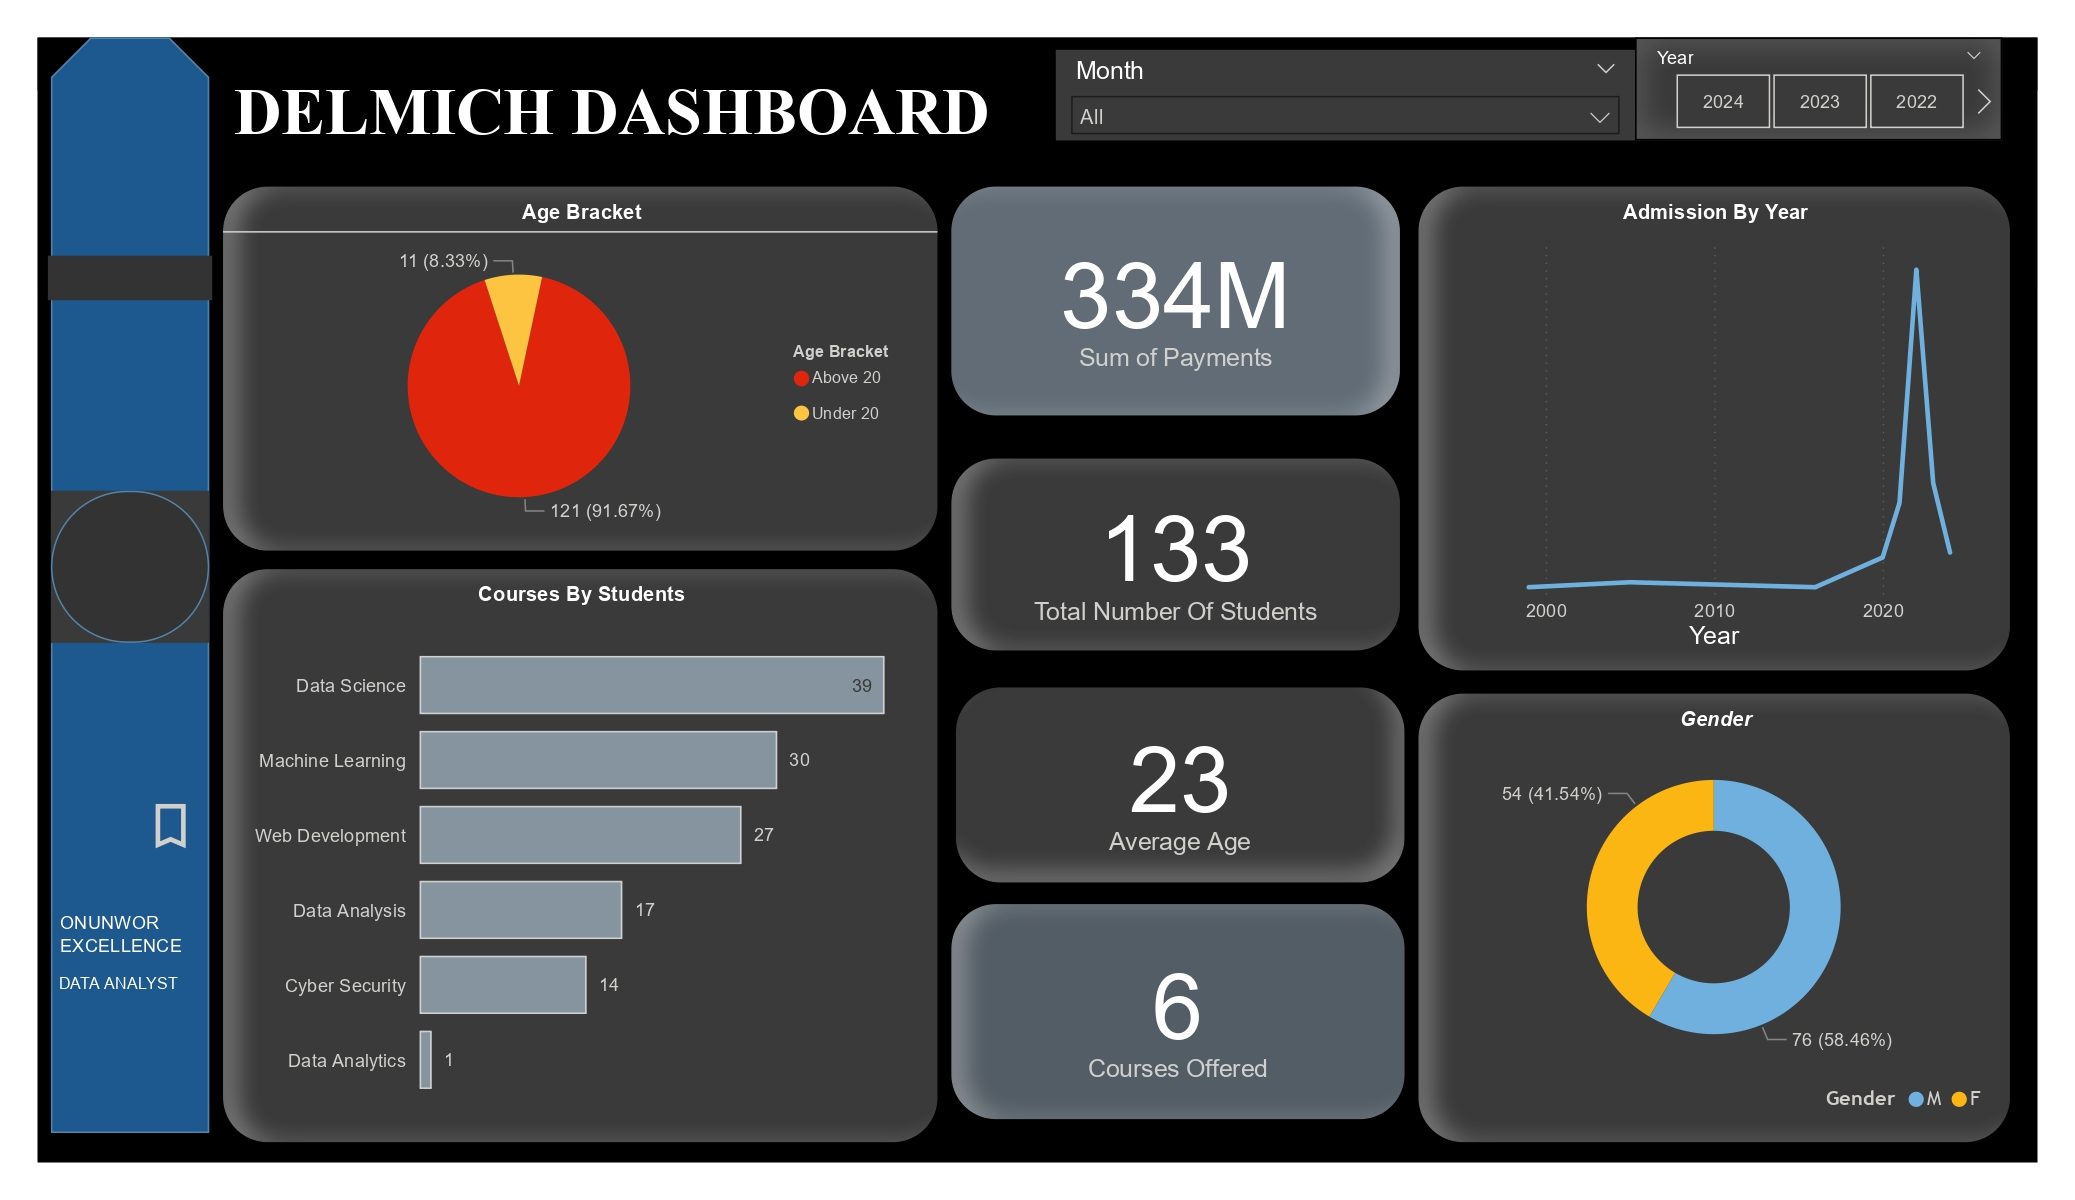

What the dashboard file says about the page in this screenshot:
{"tool":"powerbi","page":{"name":"💵Page 1","canvas":[1280,720],"ordinal":0},"visuals":[{"type":"card","fields":{"Values":["Delmich dataset.Payments"]},"box":[589.2,95.5,293.9,151.3],"z":0},{"type":"clusteredBarChart","title":"Courses By Students","fields":{"Category":["Delmich dataset.Course"],"Y":["Delmich dataset.Payments"]},"box":[114.6,345.3,467.3,374.7],"z":1000},{"type":"donutChart","title":"Gender","fields":{"Category":["Delmich dataset.Gender"],"Y":["Delmich dataset.Student_ID"]},"box":[893.4,426.1,386.4,293.9],"z":2000},{"type":"card","fields":{"Values":["Delmich dataset.Course"]},"box":[589.2,562.8,296.8,142.5],"z":3000},{"type":"card","fields":{"Values":["Delmich dataset.First Name"]},"box":[589.2,273.3,293.9,126.4],"z":4000},{"type":"textbox","box":[0,19.1,658.3,64.7],"z":5000},{"type":"slicer","fields":{"Values":["Delmich dataset.Year"]},"box":[1034.8,0,239.4,66.7],"z":6000},{"type":"shape","box":[4.4,0,102.9,712.7],"z":7000},{"type":"lineChart","title":"Admission By Year","fields":{"Category":["Delmich dataset.Year"],"Y":["Delmich dataset.Student_ID"]},"box":[893.4,95.5,386.4,317.4],"z":8000},{"type":"slicer","fields":{"Values":["Delmich dataset.Month"]},"box":[657.6,7.6,377.3,59.1],"z":9000},{"type":"pieChart","title":"Age Bracket","fields":{"Category":["Delmich dataset.Age Bracket"],"Y":["Delmich dataset.Age"]},"box":[114.6,95.5,467.3,239.5],"z":10000},{"type":"card","fields":{"Values":["Delmich dataset.Age"]},"box":[592.2,421.7,293.9,129.3],"z":11000},{"type":"shape","box":[4.4,295.3,102.9,98.4],"z":12000},{"type":"actionButton","box":[63.1,493.8,100,38.5],"z":13000},{"type":"textbox","box":[4.6,563.1,158.5,40],"z":14000},{"type":"textbox","box":[4.4,602.4,102.9,30.9],"z":15000},{"type":"shape","box":[1.5,141.5,107.7,29.2],"z":16000}]}

Visuals, with their boxes on the page's 1280x720 design canvas (x1, y1, x2, y2). These are canvas units, not pixel positions in the 2075x1200 screenshot, which may show the page scaled, cropped or inside an application window:
card - Delmich dataset.Payments: {"left": 589, "top": 96, "right": 883, "bottom": 247}
"Courses By Students" clusteredBarChart: {"left": 115, "top": 345, "right": 582, "bottom": 720}
"Gender" donutChart: {"left": 893, "top": 426, "right": 1280, "bottom": 720}
card - Delmich dataset.Course: {"left": 589, "top": 563, "right": 886, "bottom": 705}
card - Delmich dataset.First Name: {"left": 589, "top": 273, "right": 883, "bottom": 400}
textbox: {"left": 0, "top": 19, "right": 658, "bottom": 84}
slicer - Delmich dataset.Year: {"left": 1035, "top": 0, "right": 1274, "bottom": 67}
shape: {"left": 4, "top": 0, "right": 107, "bottom": 713}
"Admission By Year" lineChart: {"left": 893, "top": 96, "right": 1280, "bottom": 413}
slicer - Delmich dataset.Month: {"left": 658, "top": 8, "right": 1035, "bottom": 67}
"Age Bracket" pieChart: {"left": 115, "top": 96, "right": 582, "bottom": 335}
card - Delmich dataset.Age: {"left": 592, "top": 422, "right": 886, "bottom": 551}
shape: {"left": 4, "top": 295, "right": 107, "bottom": 394}
actionButton: {"left": 63, "top": 494, "right": 163, "bottom": 532}
textbox: {"left": 5, "top": 563, "right": 163, "bottom": 603}
textbox: {"left": 4, "top": 602, "right": 107, "bottom": 633}
shape: {"left": 2, "top": 142, "right": 109, "bottom": 171}
